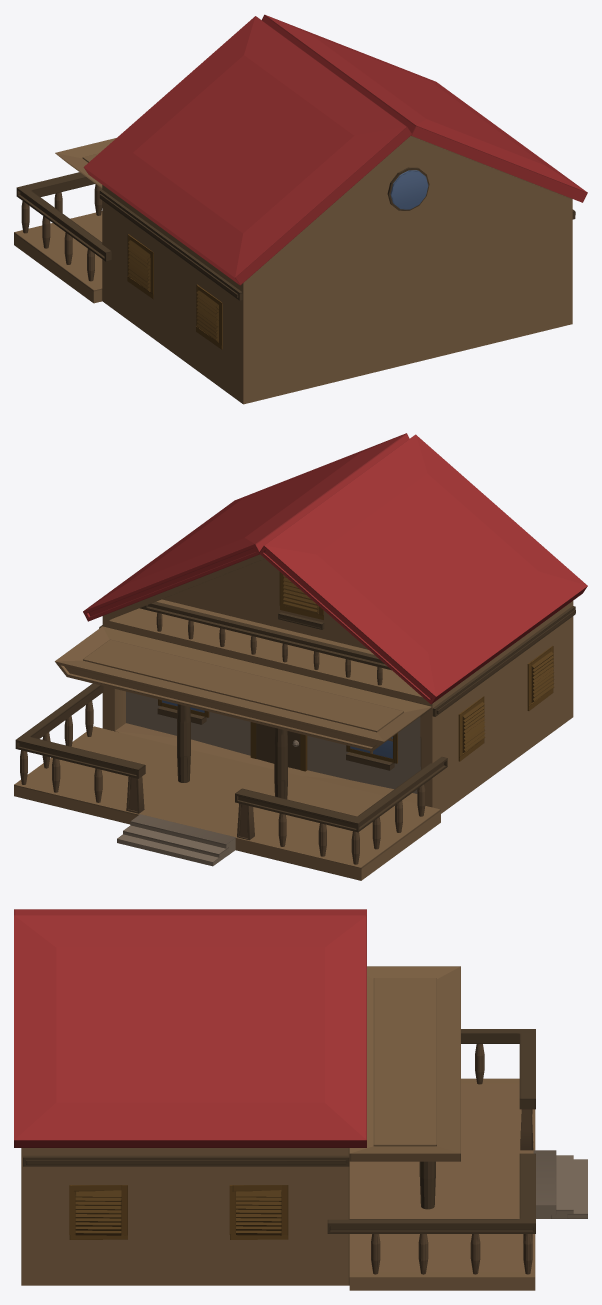
The model's file is CUPIC_CHALET.gltf.
3 renders of one model, top to bottom at view 1: azimuth 30°, elevation 25°; view 2: azimuth 150°, elevation 25°; view 3: azimuth 270°, elevation 25°, orthographic. The views are drawn at different scales.
Visible parts, largest first — view 1: node-0; view 2: node-0; view 3: node-0.
Boxes of the visible parts, left/top/right/bottom form: node-0: left=14, top=14, right=587, bottom=404; node-0: left=14, top=433, right=587, bottom=880; node-0: left=14, top=909, right=587, bottom=1290.
Bounding box in the file's own units: 735 × 487 × 889.
1 material, 1 textured.
